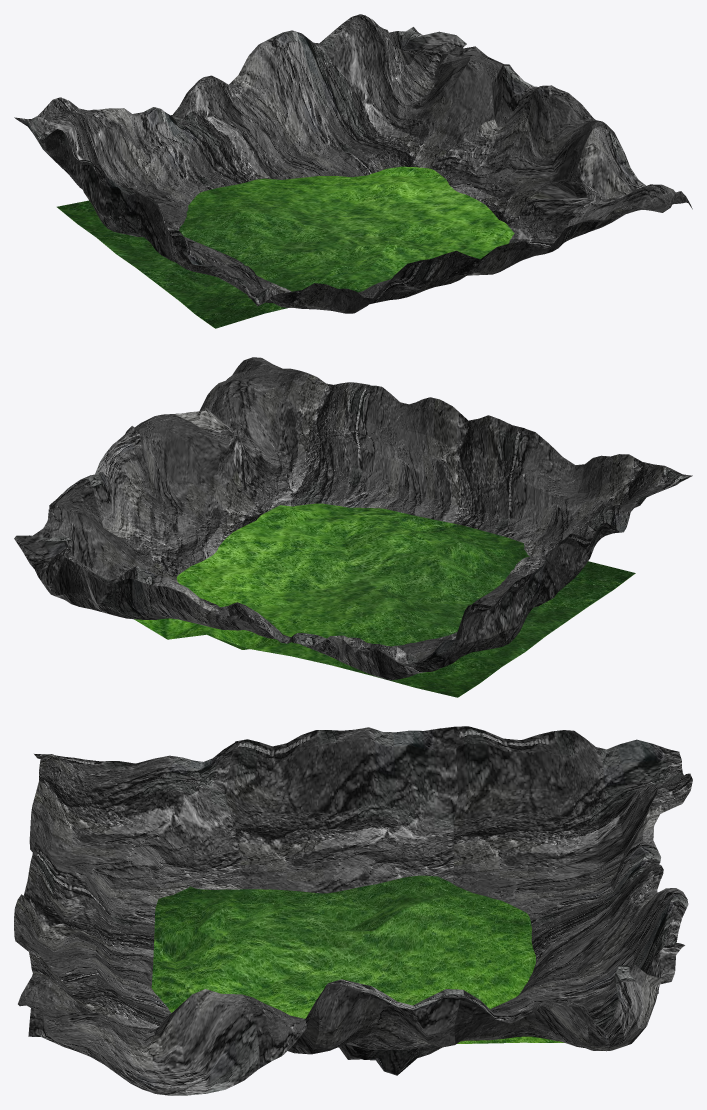
File: MAP.glb
3 renders of one model, top to bottom at view 1: azimuth 30°, elevation 25°; view 2: azimuth 150°, elevation 25°; view 3: azimuth 270°, elevation 25°, orthographic. The views are drawn at different scales.
Visible parts, largest first — view 1: Plane.009, Plane; view 2: Plane.009, Plane; view 3: Plane.009, Plane.
Part boxes in pixels (bbox=[...]): Plane.009: bbox=[14, 14, 692, 313]; Plane: bbox=[57, 166, 514, 328]; Plane.009: bbox=[14, 357, 692, 680]; Plane: bbox=[134, 503, 635, 697]; Plane.009: bbox=[14, 726, 692, 1095]; Plane: bbox=[151, 875, 564, 1043].
Size of the model in its own units: 38.38 by 10.86 by 38.28.
2 materials, 2 textured.
